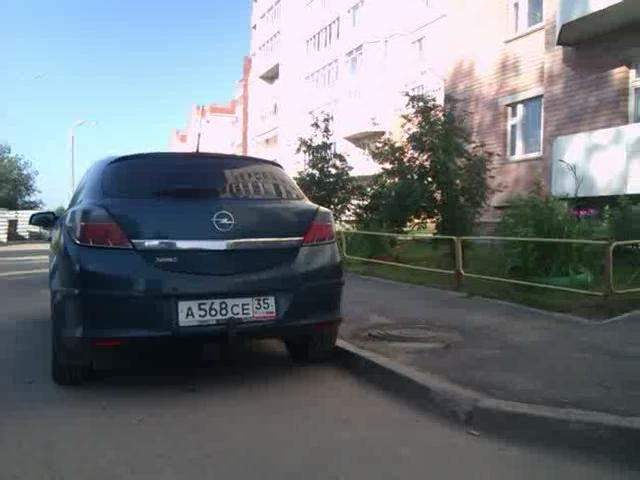car license plate: (175, 292, 278, 328)
